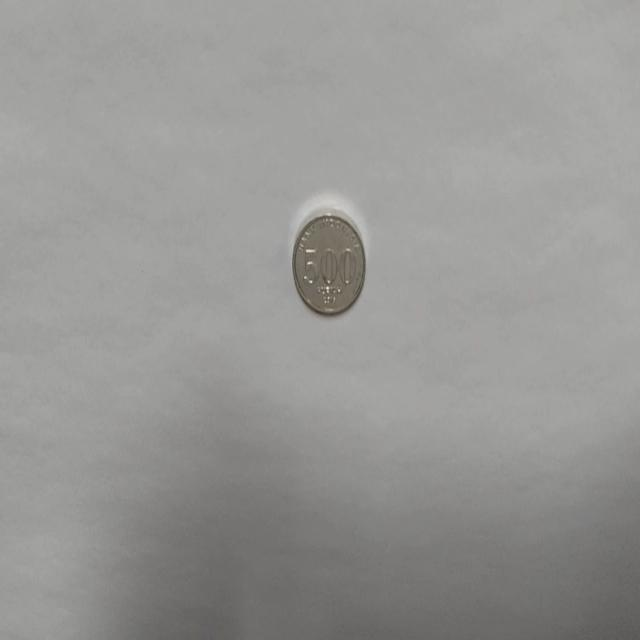lima ratus rupiah: (291, 208, 366, 316)
